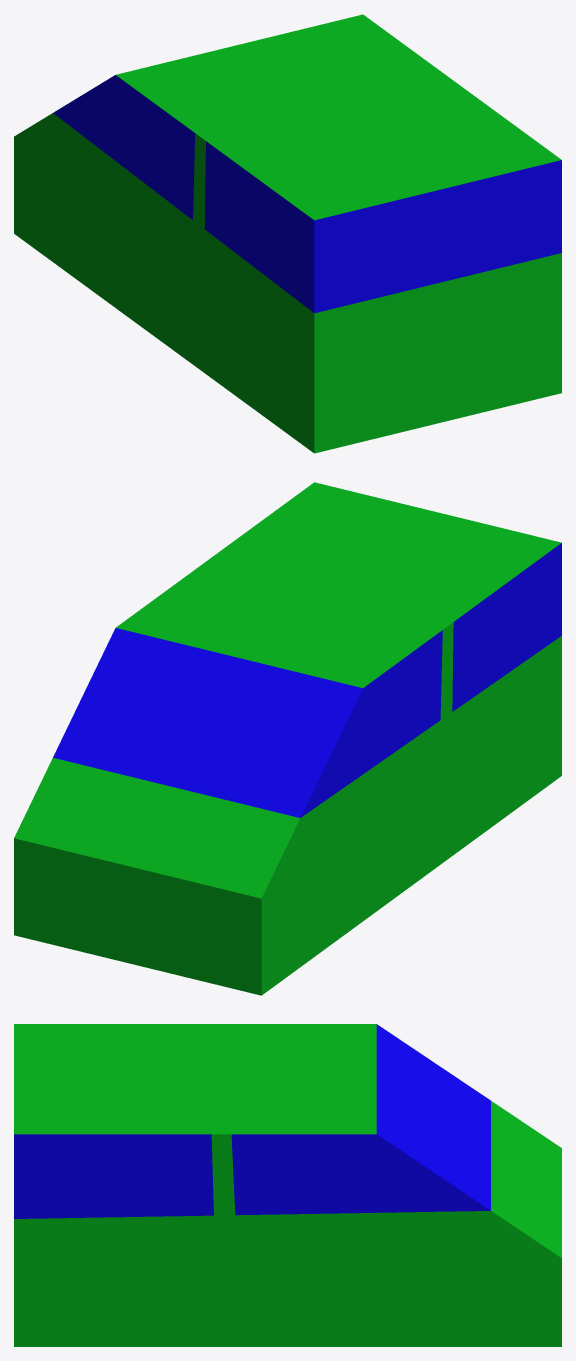
File: voiture.gltf
3 views of the same model, one above another, from view 1: azimuth 30°, elevation 25°; view 2: azimuth 150°, elevation 25°; view 3: azimuth 270°, elevation 25° (orthographic). The views are drawn at different scales.
Visible parts, largest first — view 1: voiture; view 2: voiture; view 3: voiture.
Boxes of the visible parts, bbox=[...] form: voiture: bbox=[14, 14, 561, 453]; voiture: bbox=[14, 482, 561, 995]; voiture: bbox=[14, 1024, 561, 1346].
Size of the model in its own units: 0.1043 by 0.0938 by 0.2191.
Materials: 3 (3 with a texture image).
